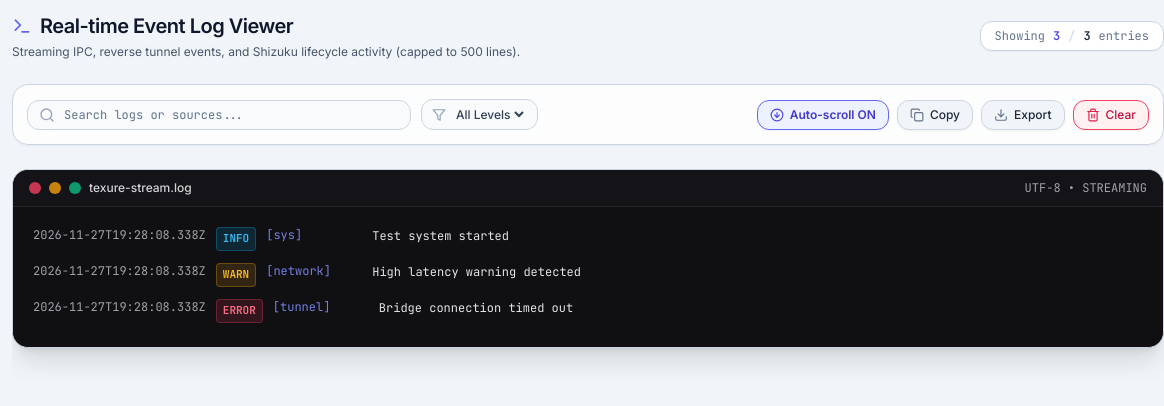
Test: LogViewer Component › filters log stream by search query
Check: the text "Test system started" is shown, box [372,228,509,244]
Type "latency" into the field with test id "input-log-search" at (219,114), box [27,100,411,130]
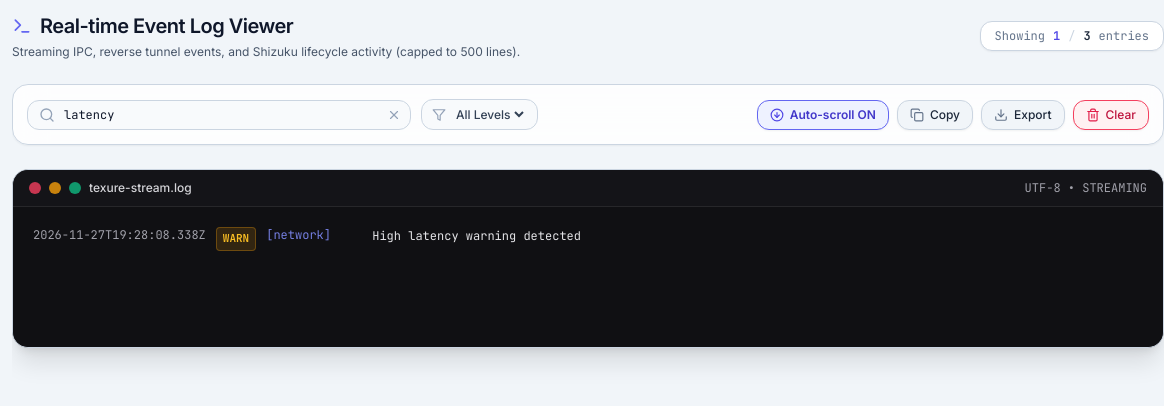
Check: the text "High latency warning detected" is shown, box [372,228,581,244]
Check: the text "Test system started" is gone
Check: the text "Bridge connection timed out" is gone
// Search query with no match shows empty state
Replace the text in the field with test id "input-log-search" with "nonexistent-string-xyz" at (219,114), box [27,100,411,130]
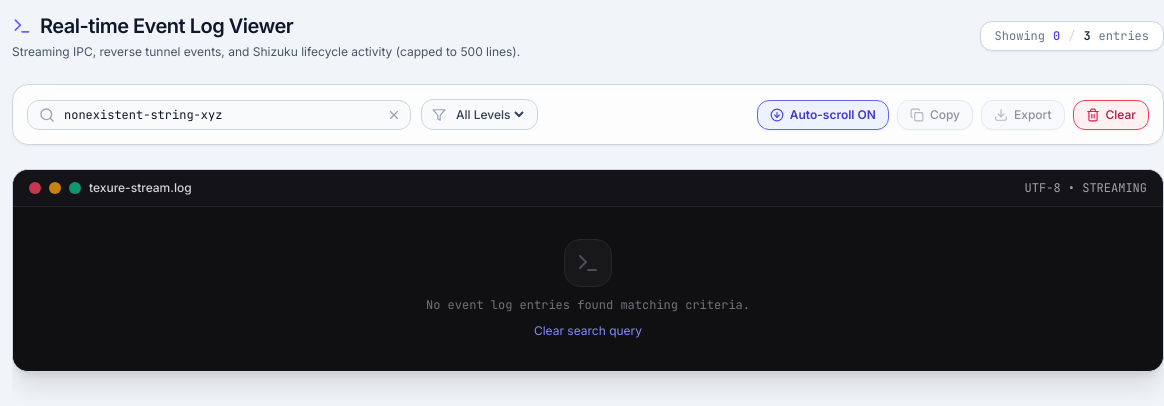
Check: the element with test id "log-empty-state" is shown, box [426,239,750,339]
Check: the text "No event log entries found matching criteria." is shown, box [426,297,750,313]
